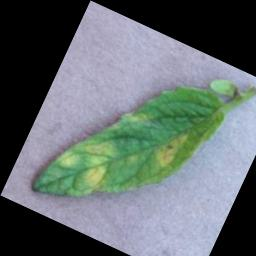Leaf_Mold: (48, 123, 127, 202), (147, 119, 194, 177)
